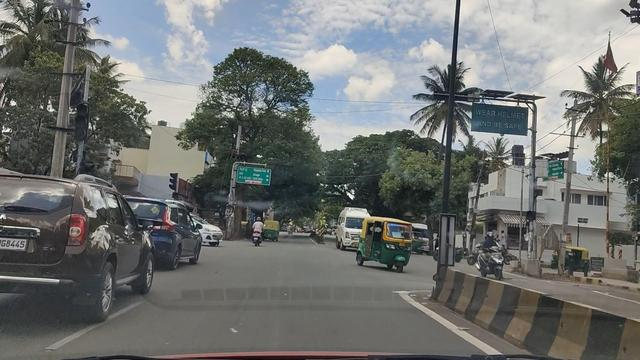LMV: (7, 169, 155, 321), (132, 194, 204, 271)
